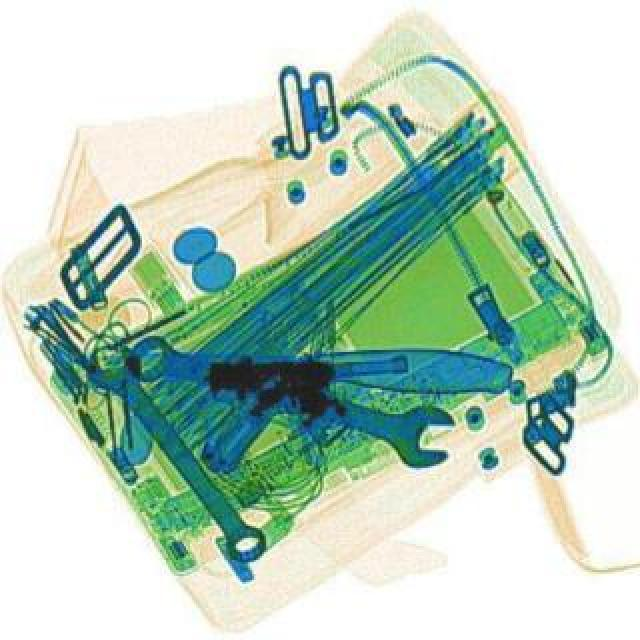gun: (200, 350, 408, 470)
knife: (100, 334, 512, 392)
scissors: (116, 314, 460, 476), (74, 332, 278, 570)
